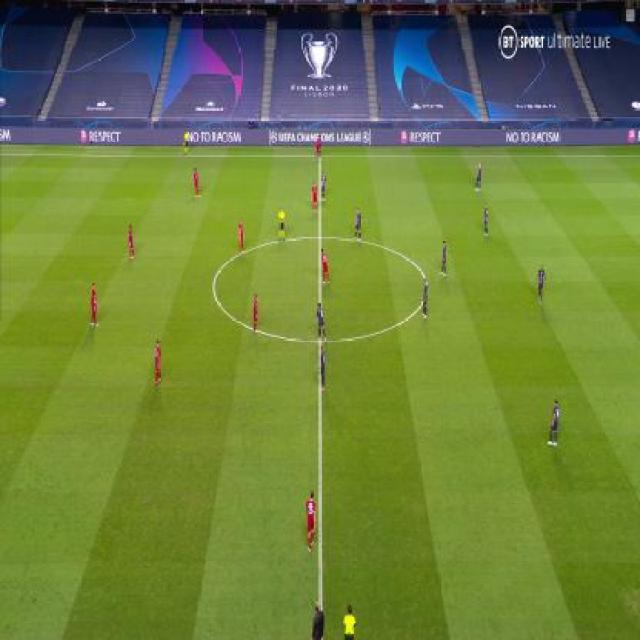ball: (319, 276, 324, 282)
player: (303, 490, 319, 555), (547, 397, 561, 448), (88, 281, 101, 329), (343, 603, 360, 639), (311, 598, 325, 640), (535, 264, 548, 307), (152, 339, 163, 387), (316, 303, 327, 343), (319, 248, 330, 285), (421, 272, 429, 320), (319, 346, 327, 392), (251, 294, 260, 334), (127, 222, 136, 261), (277, 206, 286, 245), (237, 218, 246, 255), (440, 238, 448, 277), (192, 166, 201, 200), (482, 201, 490, 237), (354, 207, 362, 243), (319, 170, 327, 204), (311, 180, 319, 214), (474, 160, 482, 193), (182, 127, 190, 156), (316, 134, 322, 165)
